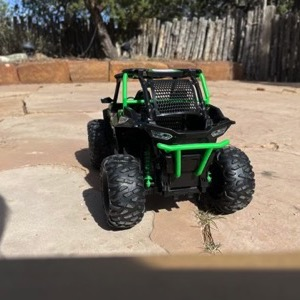polaris: (86, 68, 256, 230)
